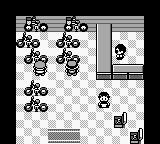leer: (16, 32, 40, 48), (56, 32, 80, 48), (24, 80, 48, 96), (25, 96, 48, 112), (24, 48, 48, 63), (57, 49, 80, 63)
main: (65, 61, 79, 75)
no-caminable: (8, 4, 154, 143), (16, 16, 144, 32), (97, 24, 112, 79), (113, 65, 143, 79), (114, 113, 126, 127), (130, 131, 142, 143)
npc: (33, 61, 47, 75), (98, 92, 110, 108), (114, 44, 126, 60)
puerta: (44, 128, 83, 143)
